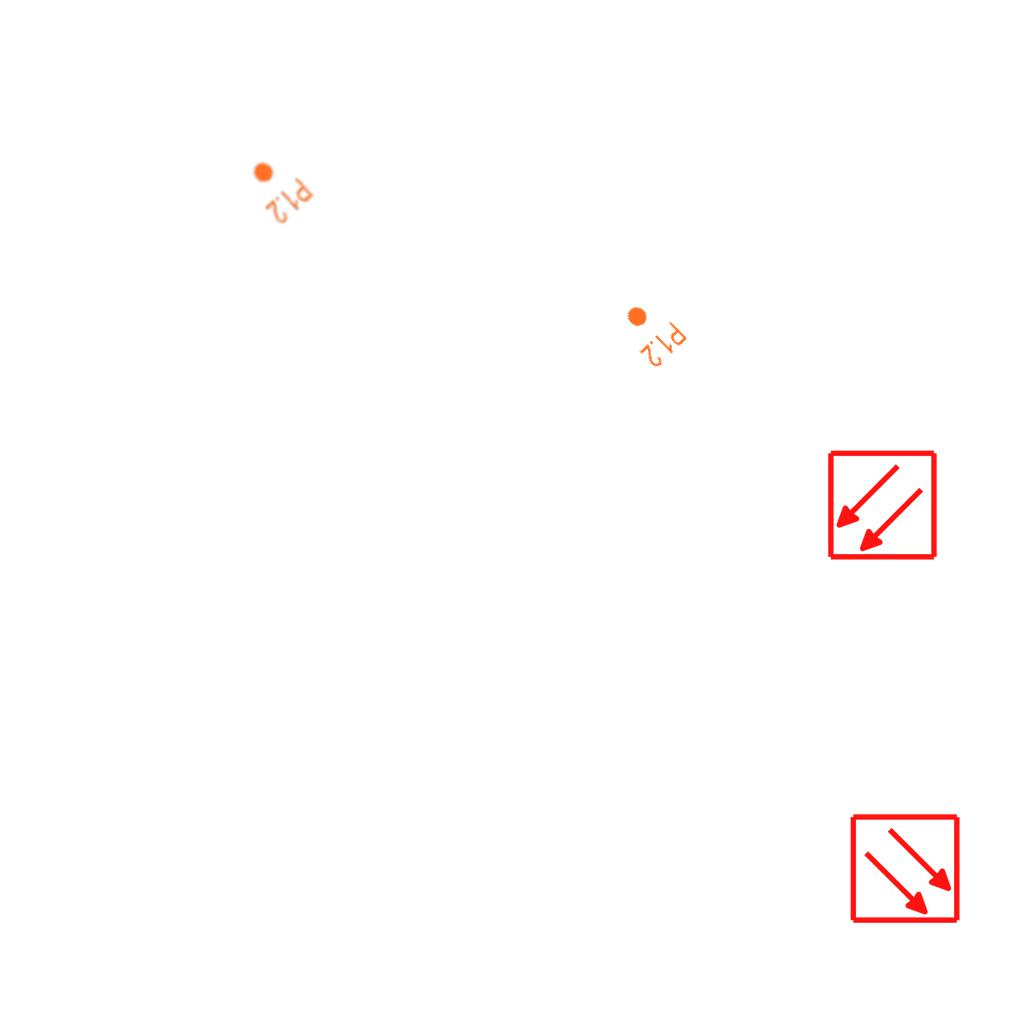Downlight_LED_Einbauleuchten_Flur: (238, 148, 316, 228), (612, 293, 690, 371)
RMO_Rauchmelder_optischer: (849, 812, 962, 925), (826, 449, 939, 562)
